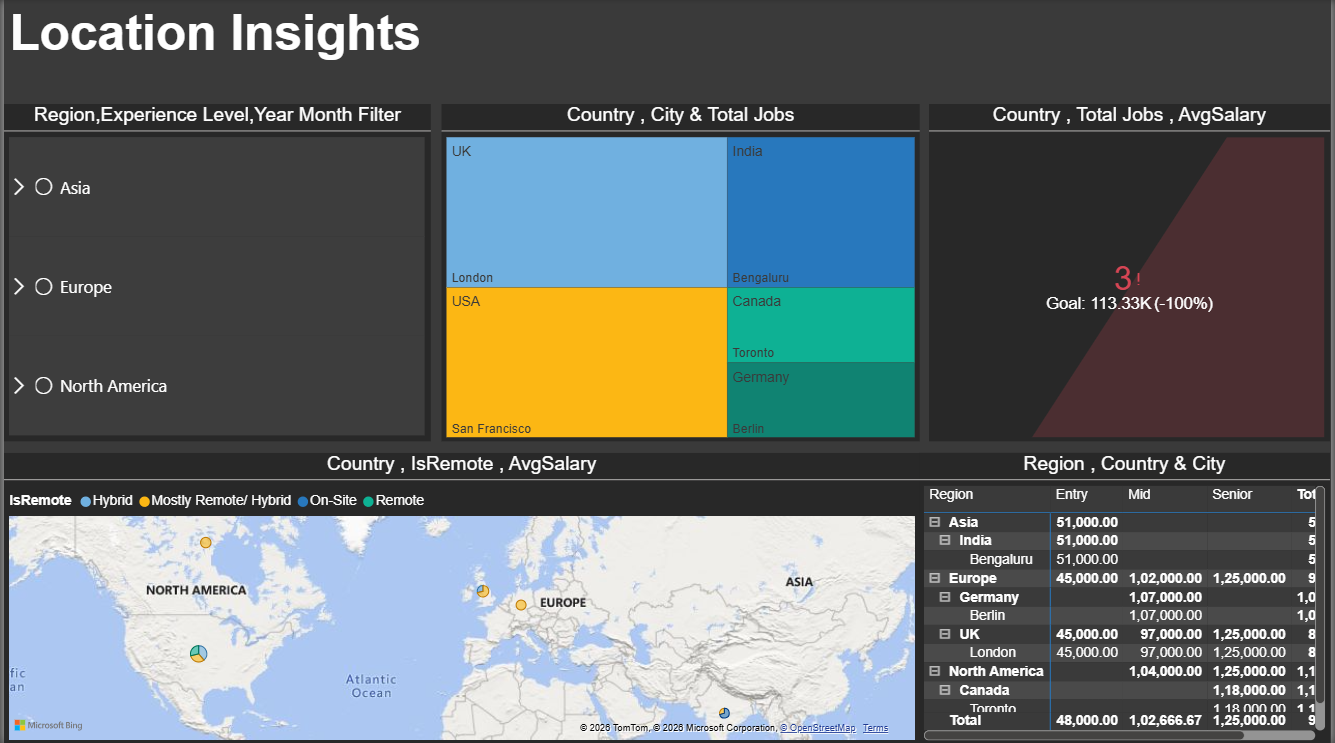

The page's visual inventory and layout, read from the dashboard file:
{"tool":"powerbi","page":{"name":"Location Insights","canvas":[1280,720],"ordinal":1},"visuals":[{"type":"textbox","box":[0,0,583.2,101.5],"z":0},{"type":"listSlicer","title":"Region,Experience Level,Year Month Filter","fields":{"Values":["Dim_Locations.Region","Fact_Jobs.Experience_Level","Dim_Date.YearMonth"]},"box":[0,101.3,412,326],"z":1000},{"type":"map","title":"Country , IsRemote , AvgSalary","fields":{"Category":["Dim_Locations.Country"],"Size":["Fact_Jobs.AvgSalaryByCountry"],"Series":["Fact_Jobs.IsRemote"]},"box":[0,438.3,883.6,281.6],"z":2000},{"type":"kpi","title":"Country , Total Jobs , AvgSalary","fields":{"Goal":["Fact_Jobs.AvgSalaryByCountry"],"Indicator":["Fact_Jobs.TotalJobs"],"TrendLine":["Dim_Locations.Country"]},"box":[893.3,101.3,387,326],"z":3000},{"type":"treemap","title":"Country , City & Total Jobs ","fields":{"Group":["Dim_Locations.Country"],"Details":["Dim_Locations.City"],"Values":["Fact_Jobs.TotalJobs"]},"box":[421.7,101.3,461.9,326],"z":4000},{"type":"pivotTable","title":"Region , Country & City","fields":{"Values":["Fact_Jobs.AvgSalaryByCountry"],"Rows":["Dim_Locations.Region","Dim_Locations.Country","Dim_Locations.City"],"Columns":["Fact_Jobs.Experience_Level"]},"box":[883.1,437.9,396.9,282.3],"z":4001}]}

Visuals, with their boxes in screenshot pixels (x1, y1, x2, y2), scaled from the page's 1280x720 canvas onto the 1335x743 screenshot:
textbox: [0, 0, 608, 105]
"Region,Experience Level,Year Month Filter" listSlicer: [0, 105, 430, 441]
"Country , IsRemote , AvgSalary" map: [0, 452, 922, 742]
"Country , Total Jobs , AvgSalary" kpi: [932, 105, 1334, 441]
"Country , City & Total Jobs " treemap: [440, 105, 922, 441]
"Region , Country & City" pivotTable: [921, 452, 1334, 742]
